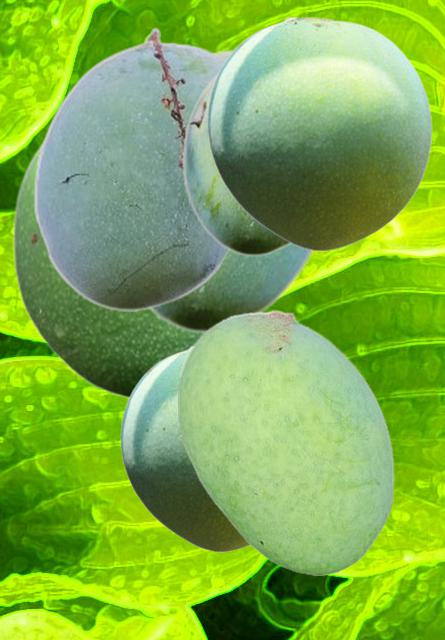green_mango: (177, 309, 393, 574), (33, 27, 231, 310), (207, 15, 431, 250), (12, 139, 200, 401), (146, 48, 317, 332), (120, 345, 249, 551), (181, 68, 293, 255)
